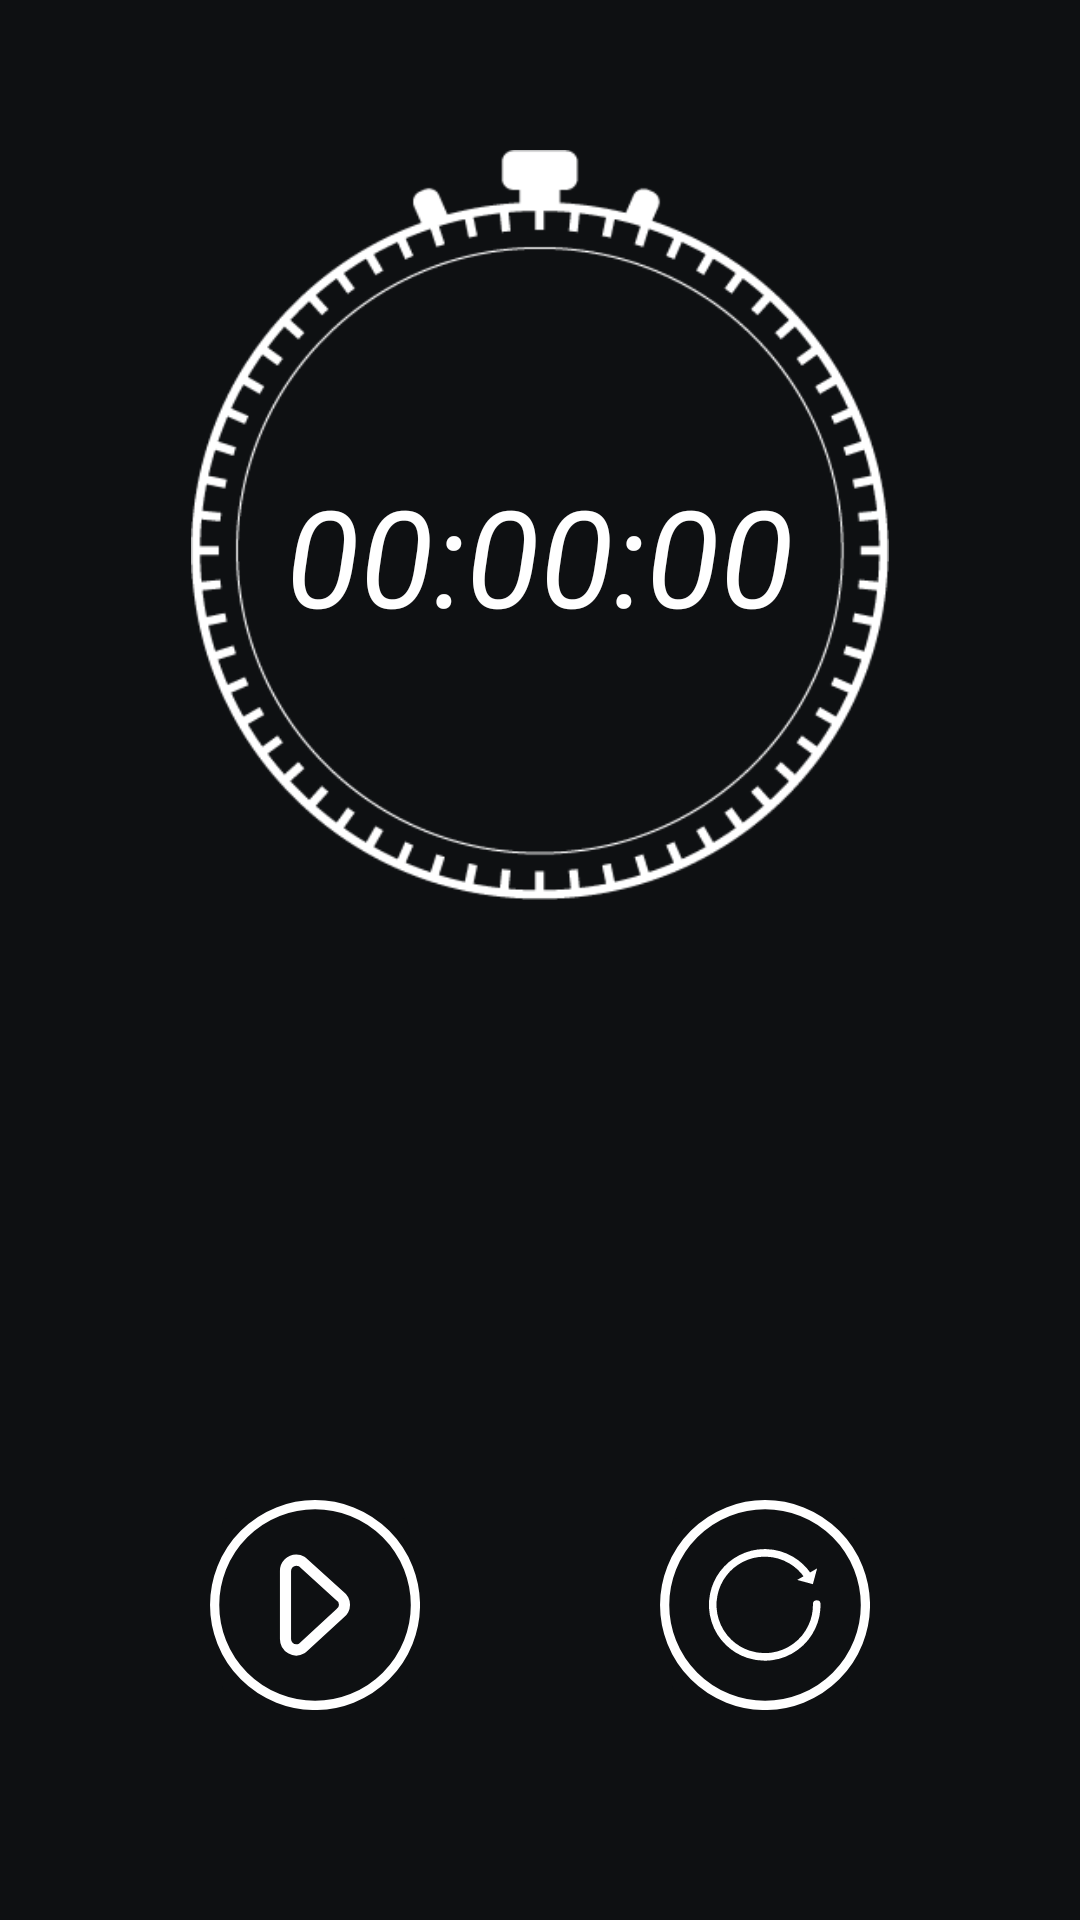

Point at icon controls on the screen. Image size 1080w x 1920h, points as [x,y].
reset: [765,1605]
start: [315,1605]
